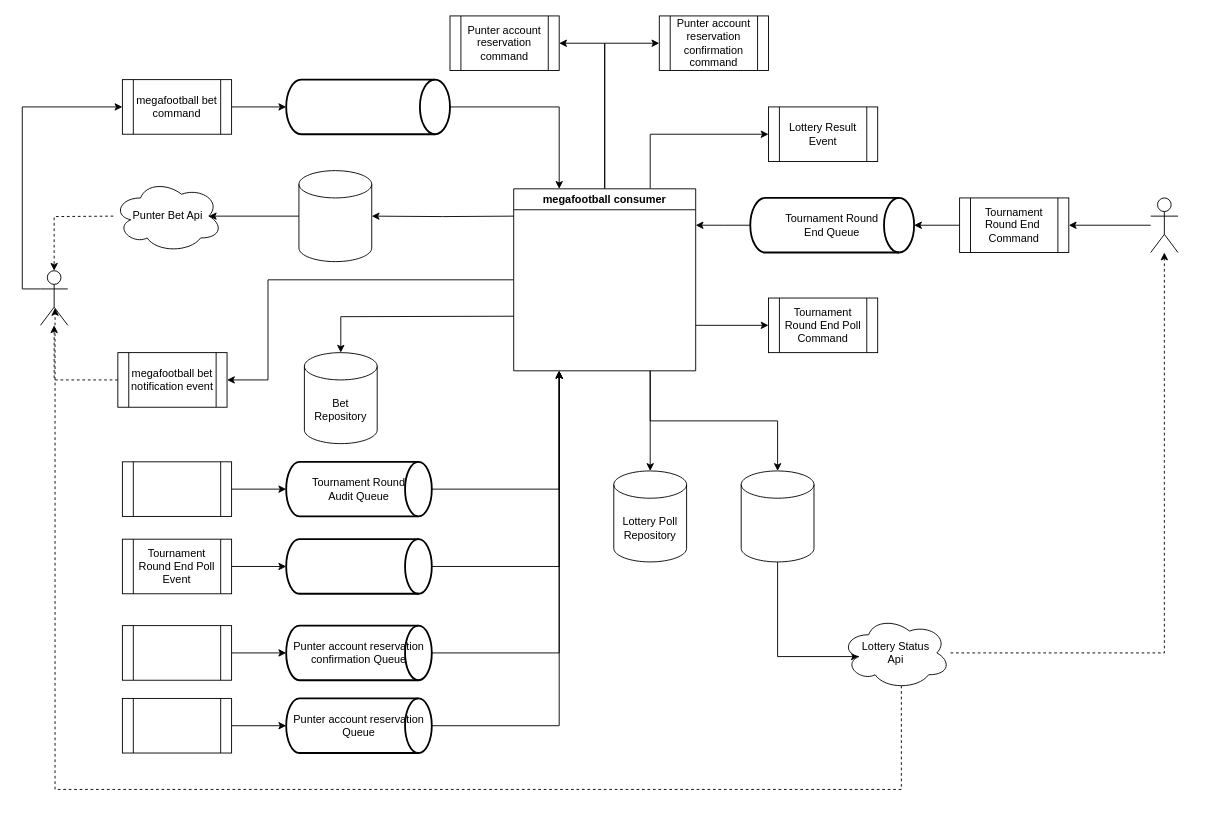
Image size: 1215x813. Some labels were removed from this diagram. The centre of each missing label's shape, as x and y in pixels:
"Lottery Status Repository" goes at point (777, 516).
"megafootball bet Queue" goes at point (367, 106).
"Punter" goes at point (54, 297).
"Punter account reservation confirmation event" goes at point (176, 652).
"Punter account reservation event" goes at point (176, 725).
"Punter Bet Repository" goes at point (335, 216).
"Round Keeper" goes at point (1164, 225).
"Tournament Round Audit Result Event" goes at point (176, 488).
"Tournament Round End Poll Queue" goes at point (358, 566).
